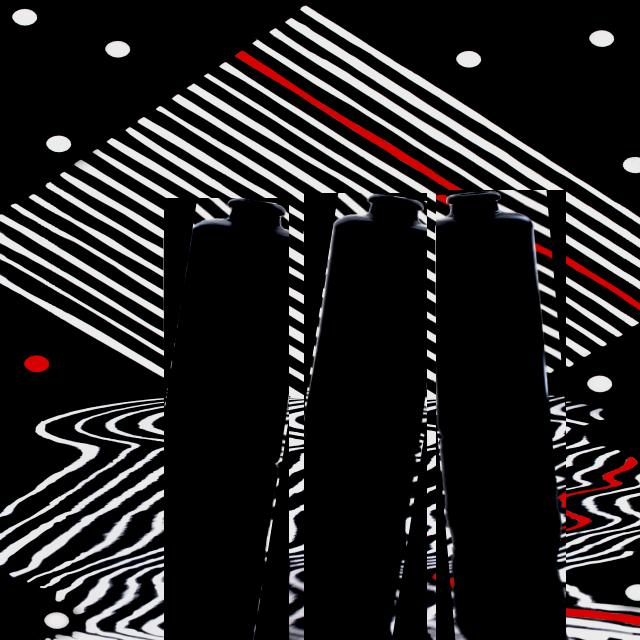Bottle: (436, 191, 565, 639), (163, 198, 287, 639), (304, 194, 425, 639)
